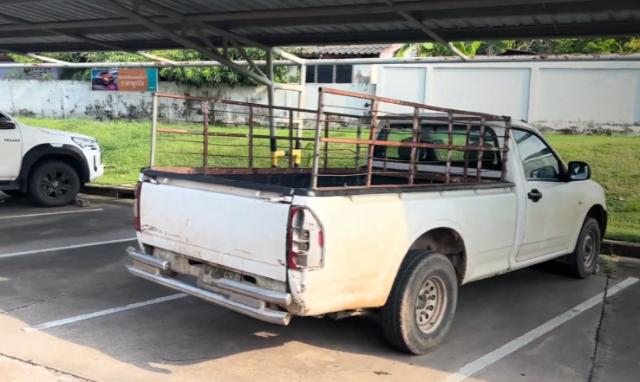pickup-truck: (130, 85, 609, 355)
